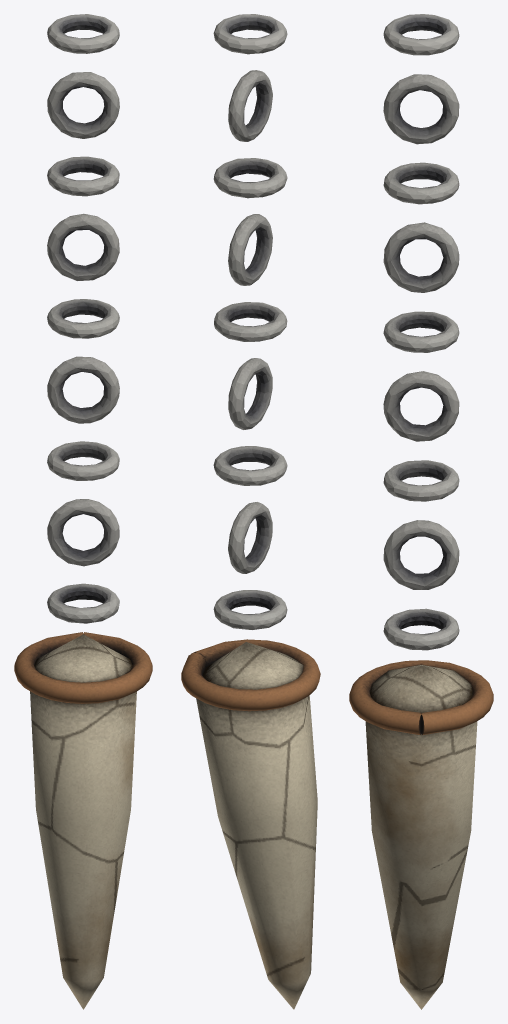
File: arma_talisma_bruxa_n1.glb
3 views of the same model, side by side, from view 1: azimuth 90°, elevation 25°; view 2: azimuth 150°, elevation 25°; view 3: azimuth 270°, elevation 25° (orthographic). The views are drawn at different scales.
Parts seen in each view (by area): view 1: arma_talisma_bruxa_n1; view 2: arma_talisma_bruxa_n1; view 3: arma_talisma_bruxa_n1.
Boxes of the visible parts, x1=… form: arma_talisma_bruxa_n1: x1=14, y1=14, x2=152, y2=1009; arma_talisma_bruxa_n1: x1=181, y1=14, x2=320, y2=1009; arma_talisma_bruxa_n1: x1=349, y1=14, x2=493, y2=1009.
Bounding box in the file's own units: 0.0394 × 0.2972 × 0.0388.
1 material, 1 textured.
